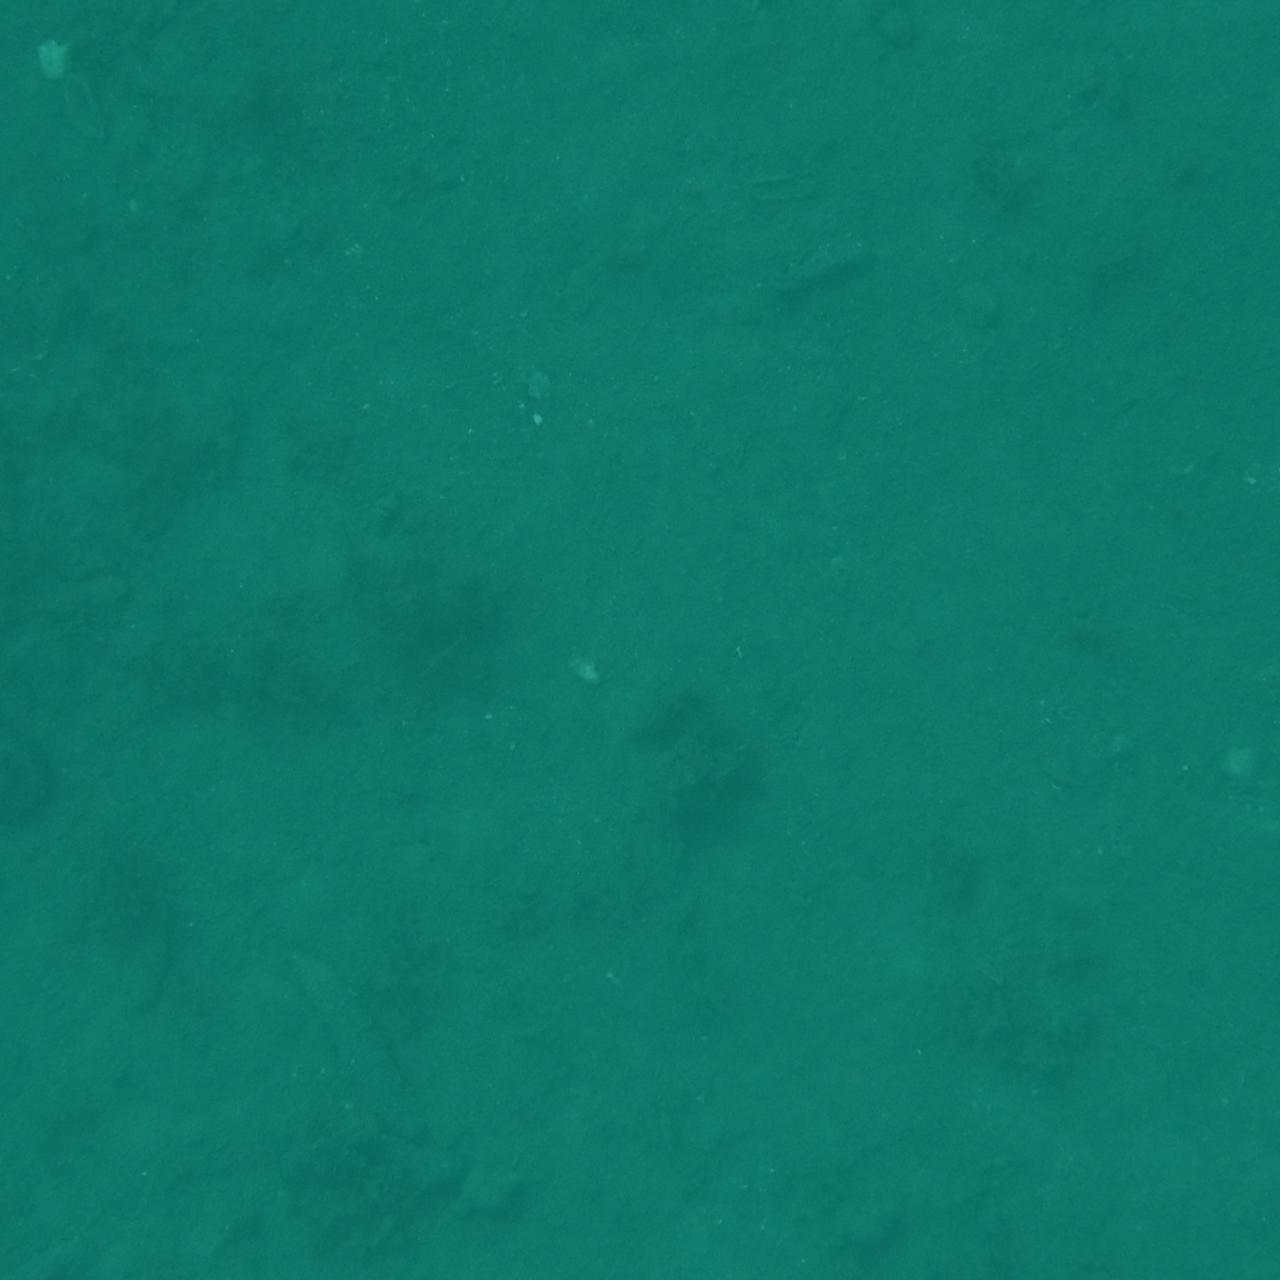Holothuria tubulosa: (279, 925, 440, 1148), (883, 1187, 1148, 1280), (203, 0, 420, 103), (1171, 710, 1280, 904), (0, 501, 105, 673), (1152, 185, 1280, 324), (839, 0, 1051, 77), (1101, 409, 1280, 501), (0, 0, 102, 144), (0, 720, 116, 844), (0, 1164, 123, 1280), (0, 1169, 118, 1280), (0, 182, 56, 414), (1145, 990, 1280, 1082), (787, 0, 885, 117), (0, 0, 132, 84), (319, 1177, 427, 1280), (1194, 0, 1280, 123), (673, 1228, 876, 1280), (1226, 1001, 1280, 1185), (0, 0, 116, 74), (0, 0, 63, 124), (0, 0, 95, 80), (0, 0, 66, 111), (1182, 0, 1280, 62), (1167, 1228, 1280, 1280)
Rifiuto: (0, 1177, 135, 1280)
